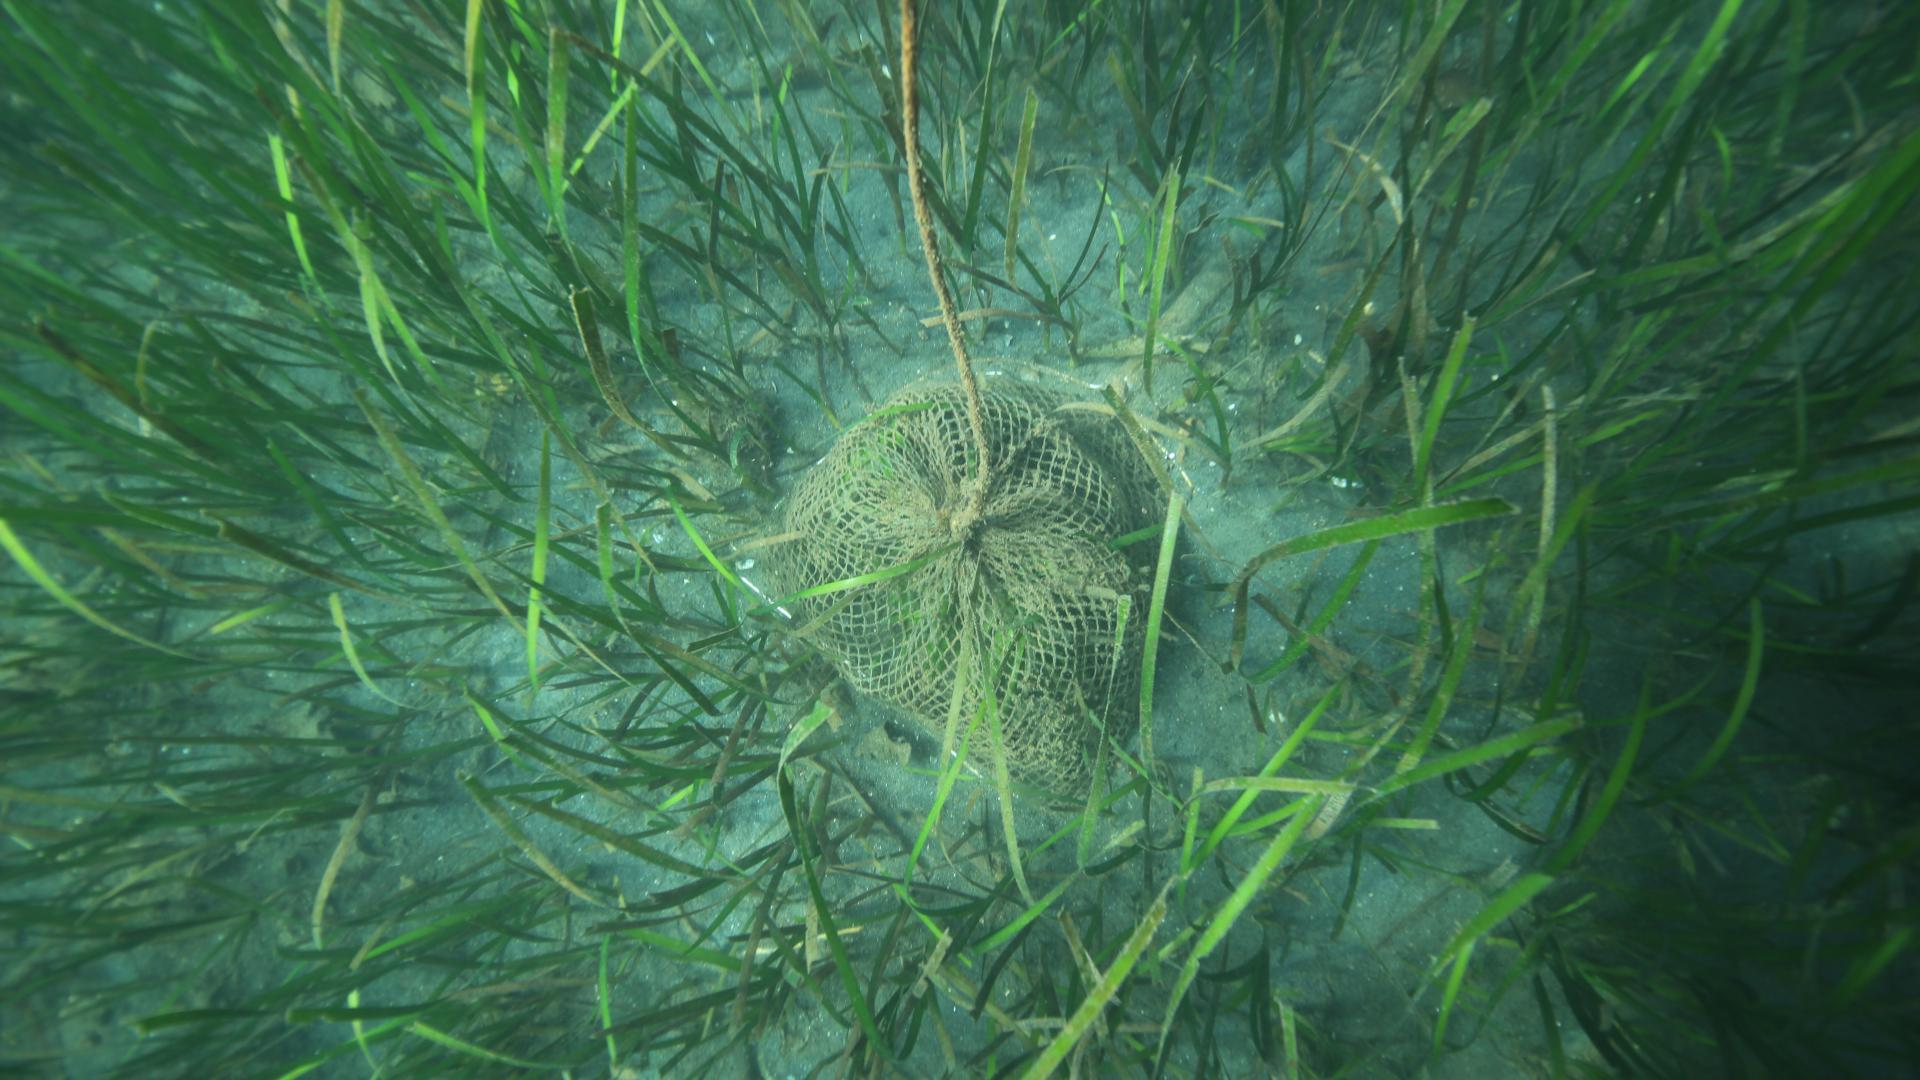fish net: (752, 375, 1187, 818)
rope: (897, 0, 993, 530)
